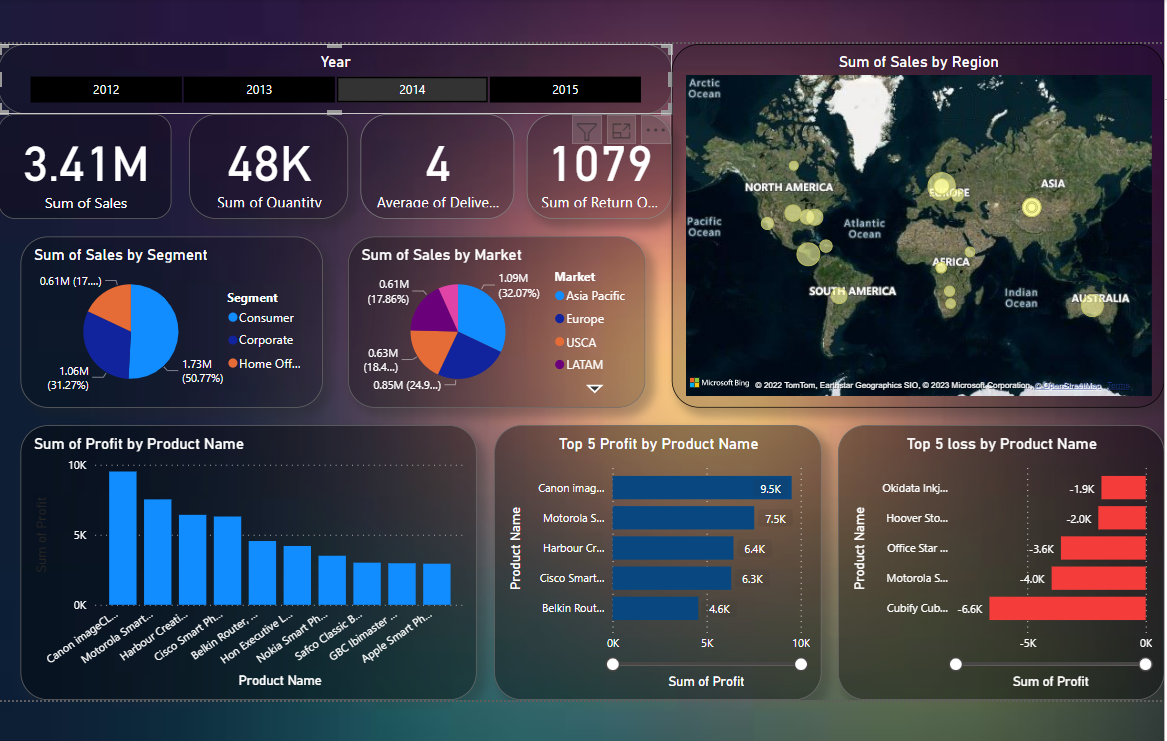

The dashboard page shown, as its layout file describes it:
{"tool":"powerbi","page":{"name":"Page 1","canvas":[1280,720],"ordinal":0},"visuals":[{"type":"card","fields":{"Values":["Sum(Orders.Sales)"]},"box":[0,76.8,190.7,115.3],"z":0},{"type":"card","fields":{"Values":["Sum(Orders.Quantity)"]},"box":[209.9,76.8,174.3,115.3],"z":1000},{"type":"card","fields":{"Values":["Avg(Orders.Delivery Days)"]},"box":[397.9,76.8,168.8,115.3],"z":2000},{"type":"slicer","title":"Year","fields":{"Values":["Orders.Year"]},"box":[0,0,739.6,76.8],"z":3000},{"type":"card","fields":{"Values":["Sum(Returns.Return Orders)"]},"box":[580.4,76.8,159.2,115.3],"z":4000},{"type":"map","fields":{"Category":["Orders.Region"],"Size":["Sum(Orders.Sales)"]},"box":[739.6,0,540.7,399.3],"z":5000},{"type":"barChart","title":"Top 5 Profit by Product Name","fields":{"Category":["Orders.Product Name"],"Y":["Sum(Orders.Profit)"]},"box":[544.8,418.5,359.5,301.9],"z":5001},{"type":"barChart","title":"Top 5 loss by Product Name","fields":{"Category":["Orders.Product Name"],"Y":["Sum(Orders.Profit)"]},"box":[922.1,418.5,358.1,301.9],"z":5002},{"type":"pieChart","fields":{"Y":["Sum(Orders.Sales)"],"Category":["Orders.Segment"]},"box":[24.7,211.3,332.1,188],"z":5003},{"type":"pieChart","fields":{"Y":["Sum(Orders.Sales)"],"Category":["Orders.Market"]},"box":[384.2,211.3,326.6,188],"z":5004},{"type":"columnChart","fields":{"Category":["Orders.Product Name"],"Y":["Sum(Orders.Profit)"]},"box":[24.7,418.5,500.9,301.9],"z":5005}]}

Visuals, with their boxes on the page's 1280x720 design canvas (x1, y1, x2, y2). These are canvas units, not pixel positions in the 1167x741 screenshot, which may show the page scaled, cropped or inside an application window:
card - Sum(Orders.Sales): <box>0,77,191,192</box>
card - Sum(Orders.Quantity): <box>210,77,384,192</box>
card - Avg(Orders.Delivery Days): <box>398,77,567,192</box>
"Year" slicer: <box>0,0,740,77</box>
card - Sum(Returns.Return Orders): <box>580,77,740,192</box>
map - Orders.Region x Sum(Orders.Sales): <box>740,0,1280,399</box>
"Top 5 Profit by Product Name" barChart: <box>545,418,904,720</box>
"Top 5 loss by Product Name" barChart: <box>922,418,1280,720</box>
pieChart - Sum(Orders.Sales) x Orders.Segment: <box>25,211,357,399</box>
pieChart - Sum(Orders.Sales) x Orders.Market: <box>384,211,711,399</box>
columnChart - Orders.Product Name x Sum(Orders.Profit): <box>25,418,526,720</box>
